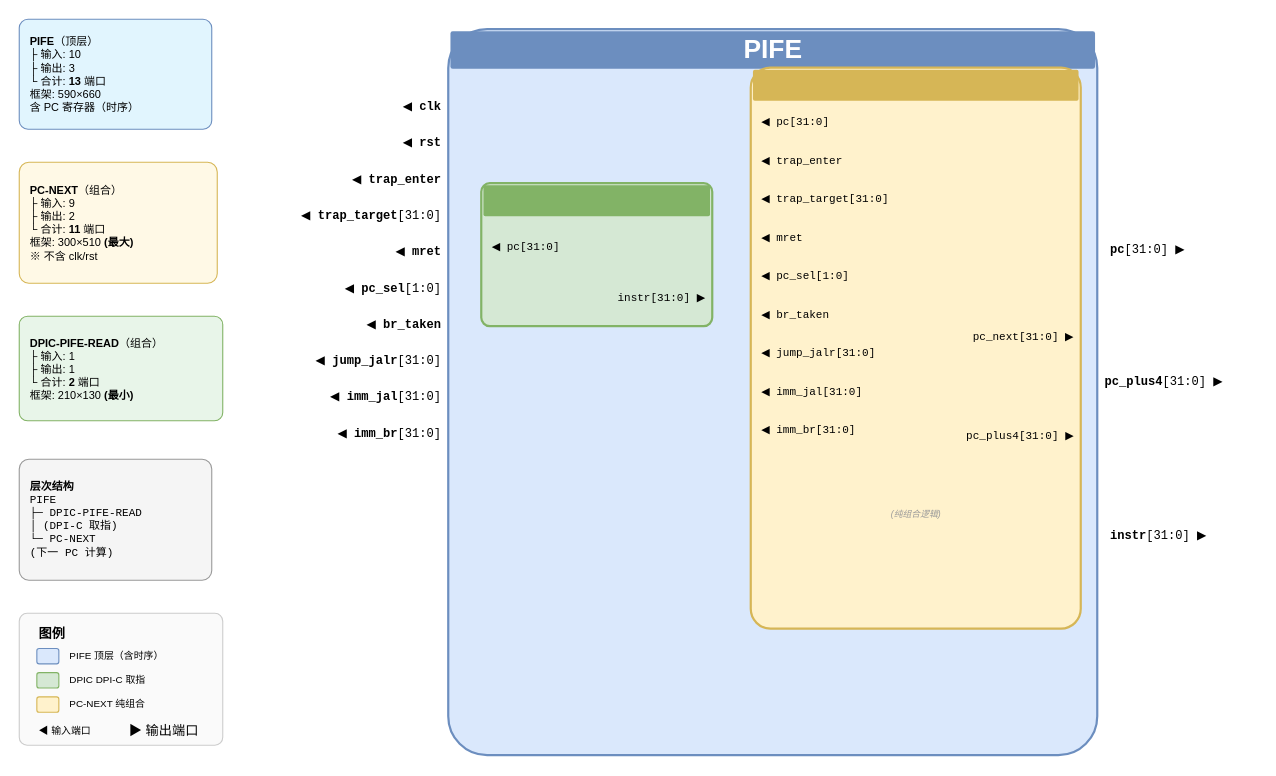
Some shapes in this 1276 by 776 pixel diagram are drawn without their labels. The shapes that lost their labels are listed below. From the top down, each one's box as (x1, y1, x2, y2) in pixels, then its label:
(752, 69, 1078, 100): PC-NEXT
(483, 185, 710, 216): DPIC-PIFE-READ
